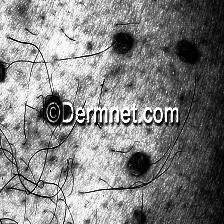Benign Marking or Mole: (127, 151, 145, 176), (110, 30, 130, 52), (176, 40, 196, 61), (0, 60, 4, 80)
